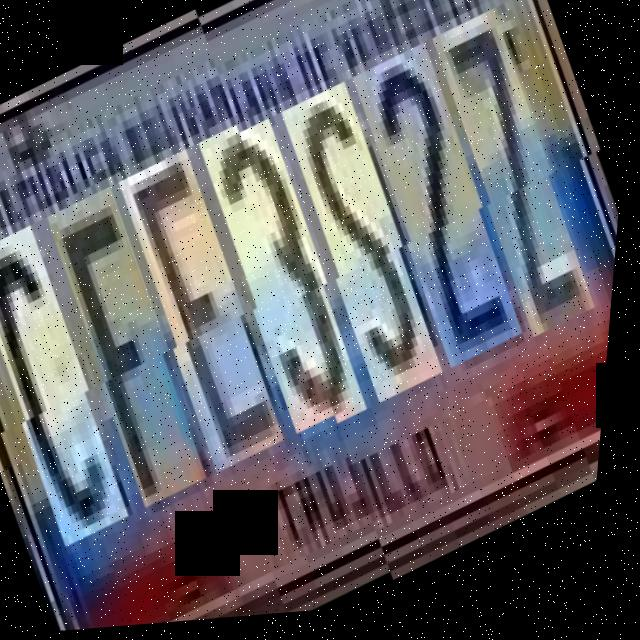2: (336, 41, 552, 382)
3: (185, 114, 398, 454)
C: (0, 226, 164, 562)
E: (105, 152, 319, 491)
F: (35, 188, 243, 525)
S: (264, 79, 473, 416)
Z: (414, 7, 626, 352)
